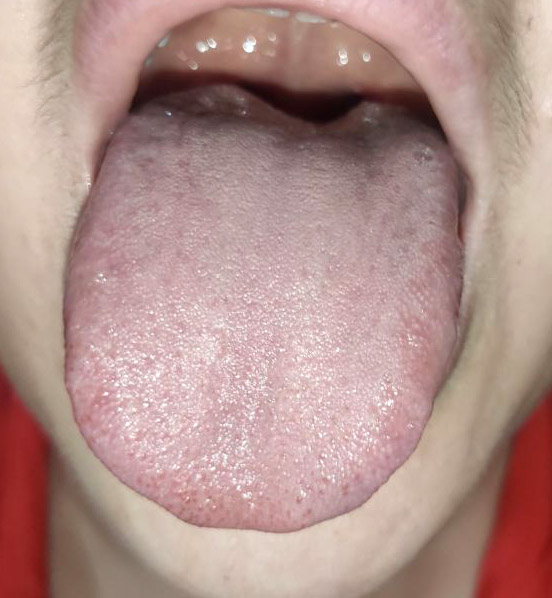baitaishe: (63, 84, 465, 533)
